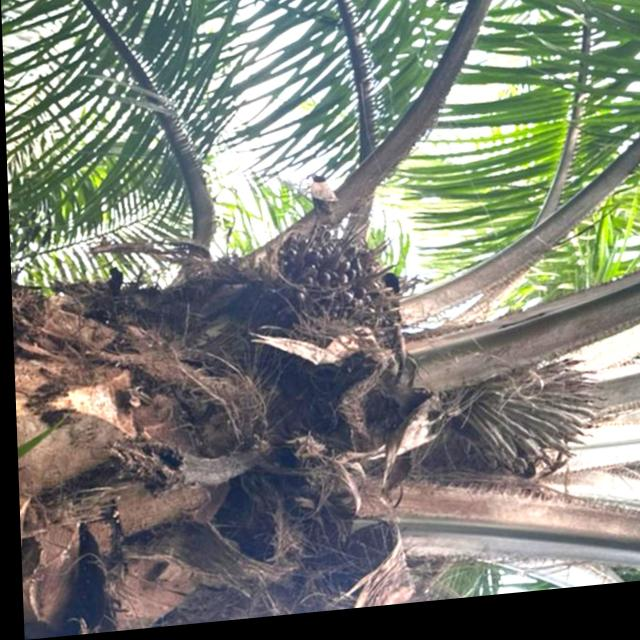ripe: (234, 208, 406, 352)
